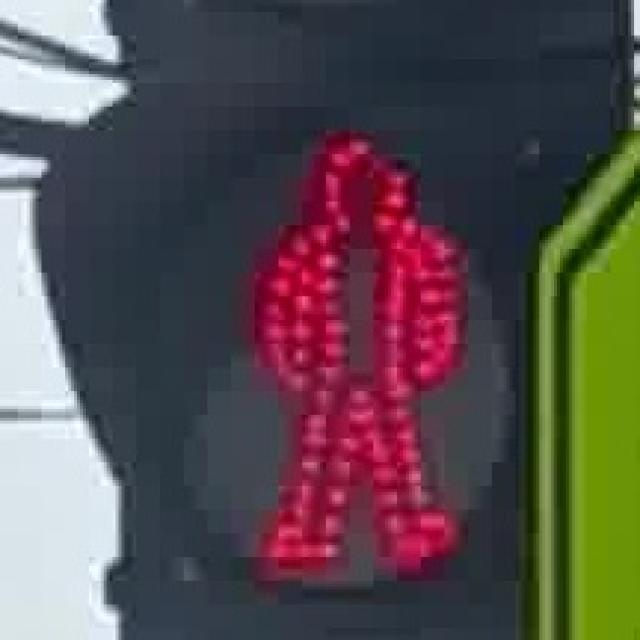red-crossing: (214, 105, 490, 603)
